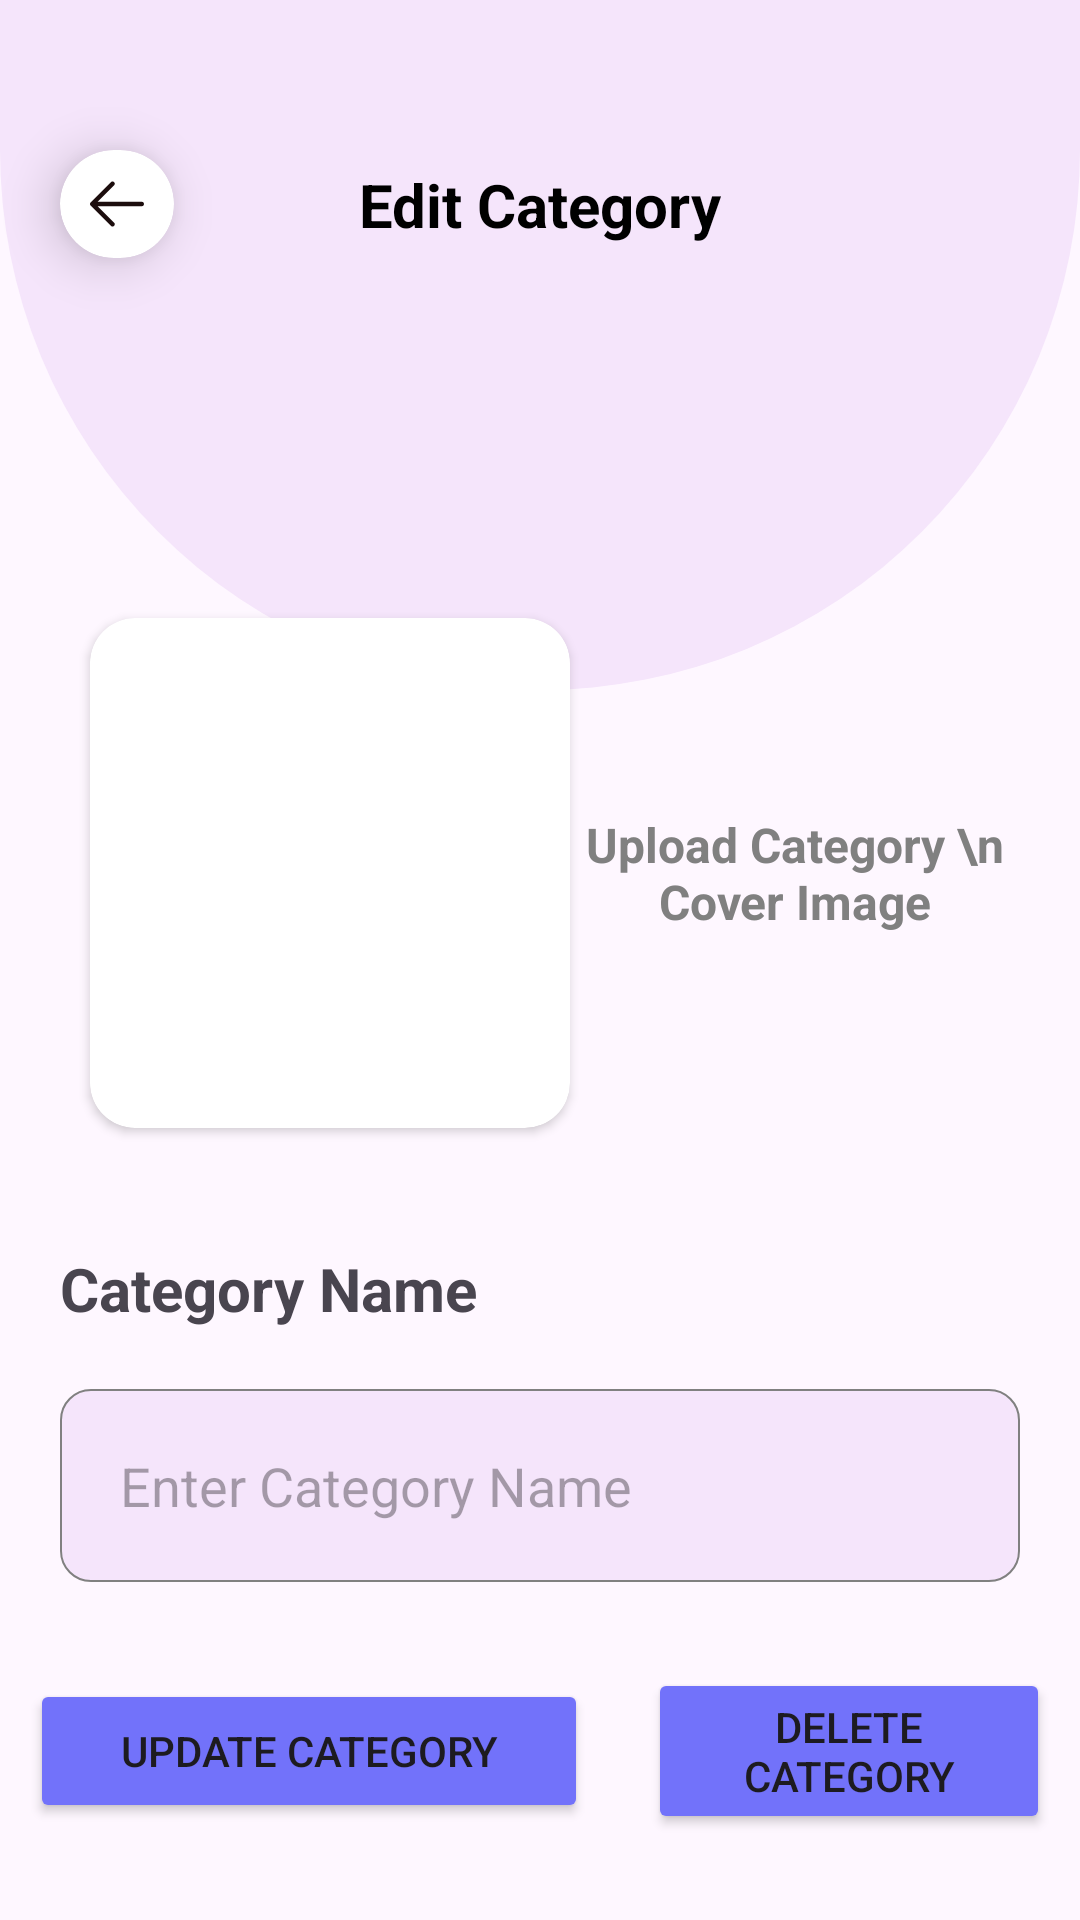

Locate icon controls on the screen. Image size 1080 x 1920, boxes as (x1, y1, x2, y2).
back: (90, 181, 144, 227)
